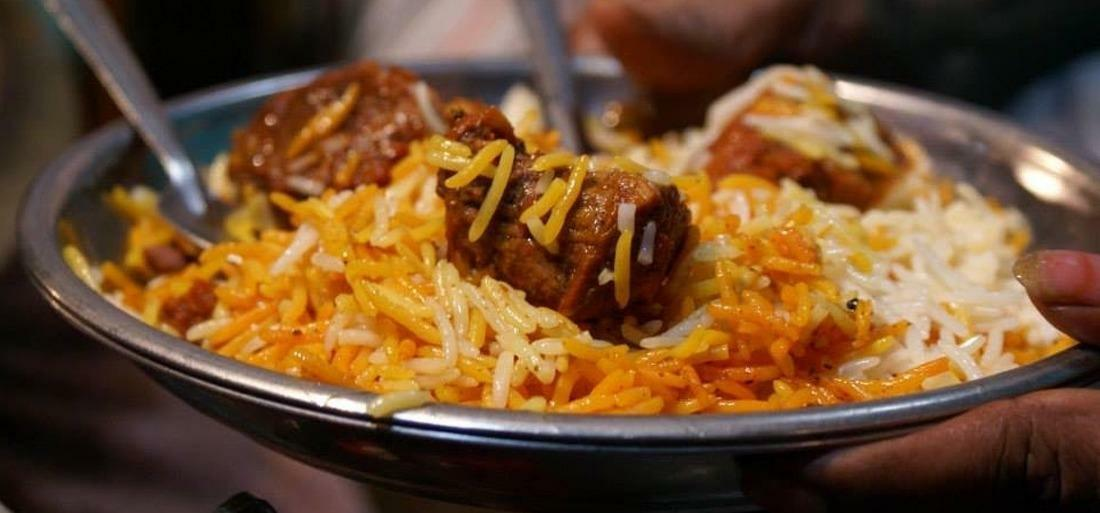Biryani: (70, 52, 1100, 414)
